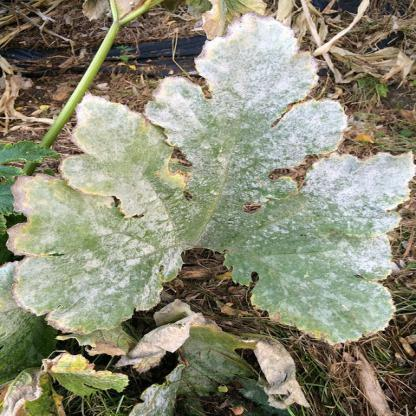Squash Powdery mildew leaf: (9, 13, 415, 340)
